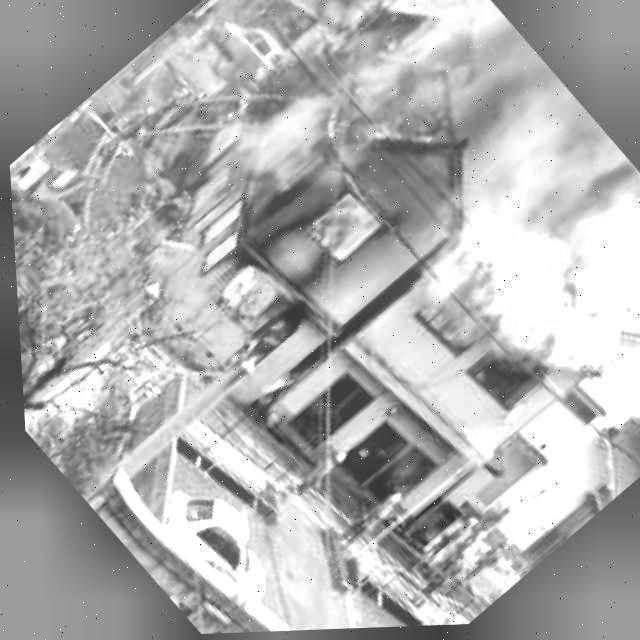Fire: (142, 104, 428, 371), (498, 149, 632, 282), (403, 282, 487, 368)
Smoke: (354, 16, 640, 395)
